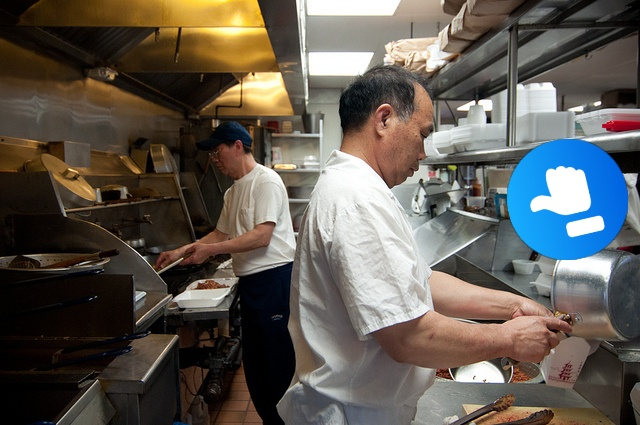like: (507, 139, 628, 260)
